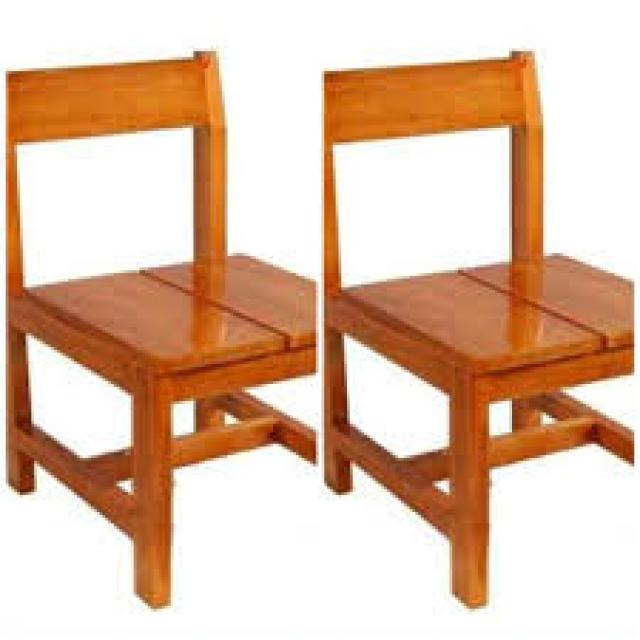chair: (2, 47, 321, 612), (316, 47, 634, 611)
